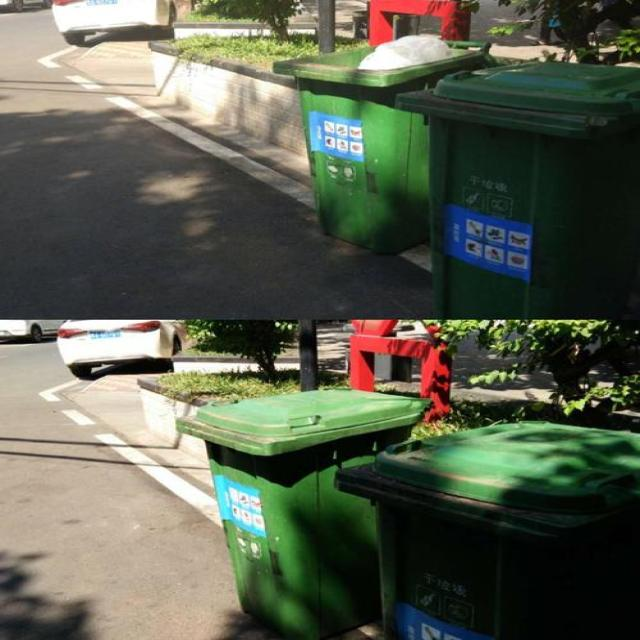garbage: (335, 418, 639, 639), (174, 386, 429, 636), (394, 61, 639, 317)
overflow: (274, 34, 490, 250)
